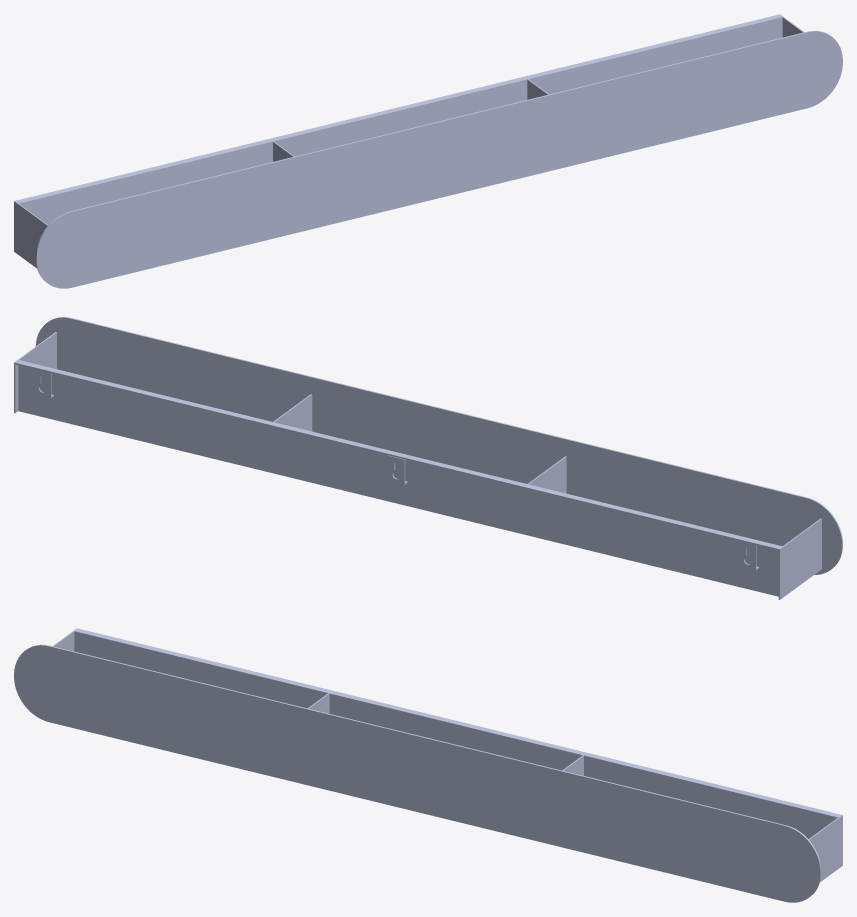
Rendered from round-mono.e81dd49644.glb.
3 views of the same model, one above another, from view 1: azimuth 30°, elevation 25°; view 2: azimuth 150°, elevation 25°; view 3: azimuth 330°, elevation 25° (orthographic).
Parts seen in each view (by area): view 1: NAUO1; view 2: NAUO1; view 3: NAUO1.
Part boxes in pixels (<box>): NAUO1: <box>14,14,842,288</box>; NAUO1: <box>14,317,842,599</box>; NAUO1: <box>14,628,842,902</box>.
Size of the model in its own units: 1 by 0.09 by 0.0927.
